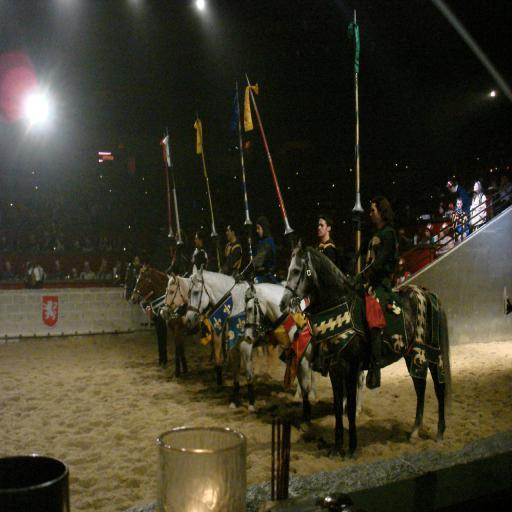horse: (123, 234, 453, 462)
